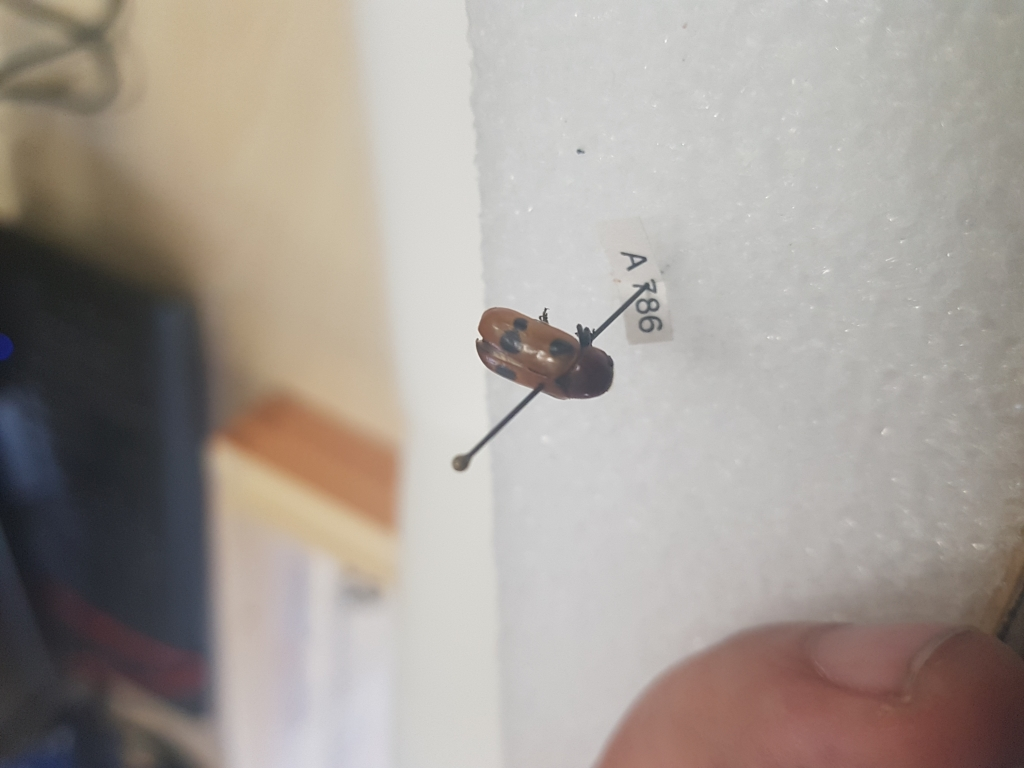Clytra_novempunctata: (468, 301, 619, 404)
